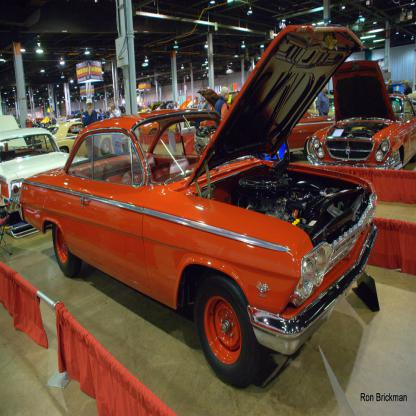Car: (0, 21, 416, 386)
